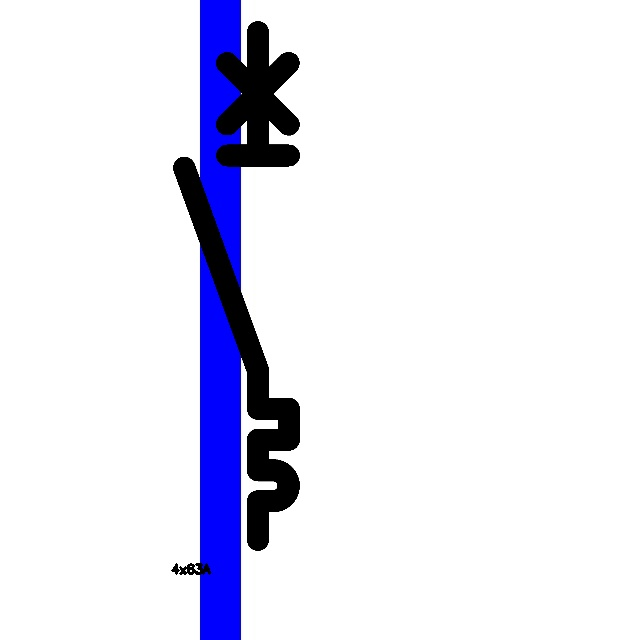interruptor_termomagnetico: (171, 19, 302, 553)
